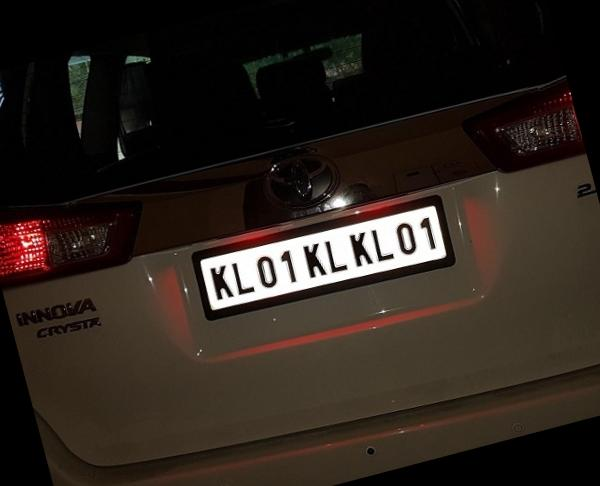plate: (180, 179, 471, 347)
